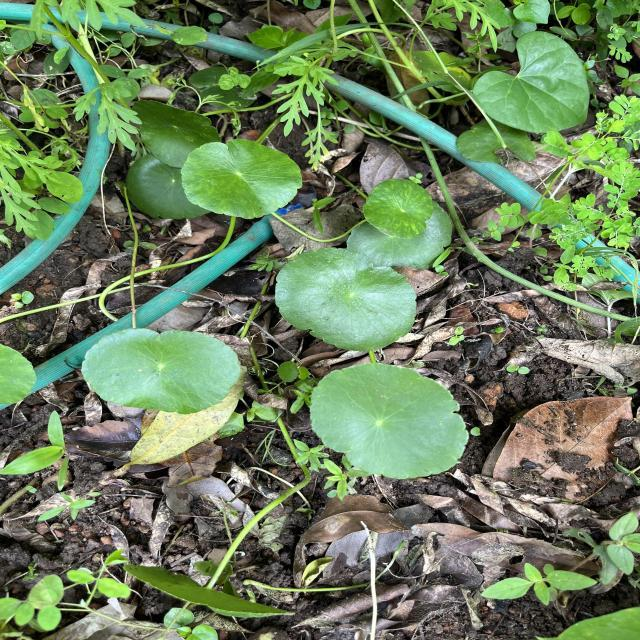Bacopa monnieri: (308, 361, 471, 482), (272, 245, 418, 354), (79, 325, 242, 416), (177, 134, 306, 223), (360, 176, 436, 241)
